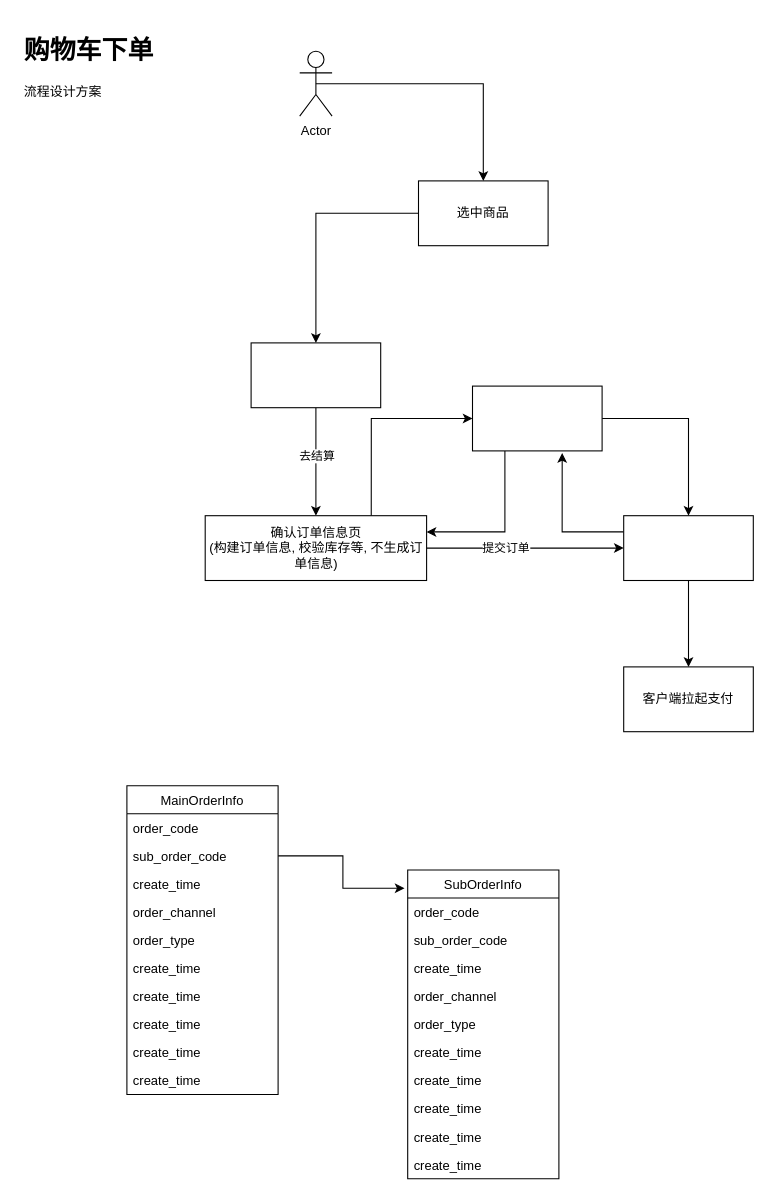
Some shapes in this 772 by 1200 pixel diagram are drawn without their labels. Each missing label, with the box of its shape:
加入购物车 (跨店铺类型): (250, 342, 381, 408)
支付页, 冻结库存: (623, 515, 753, 580)
计算实际支付总金额: (471, 385, 602, 451)
